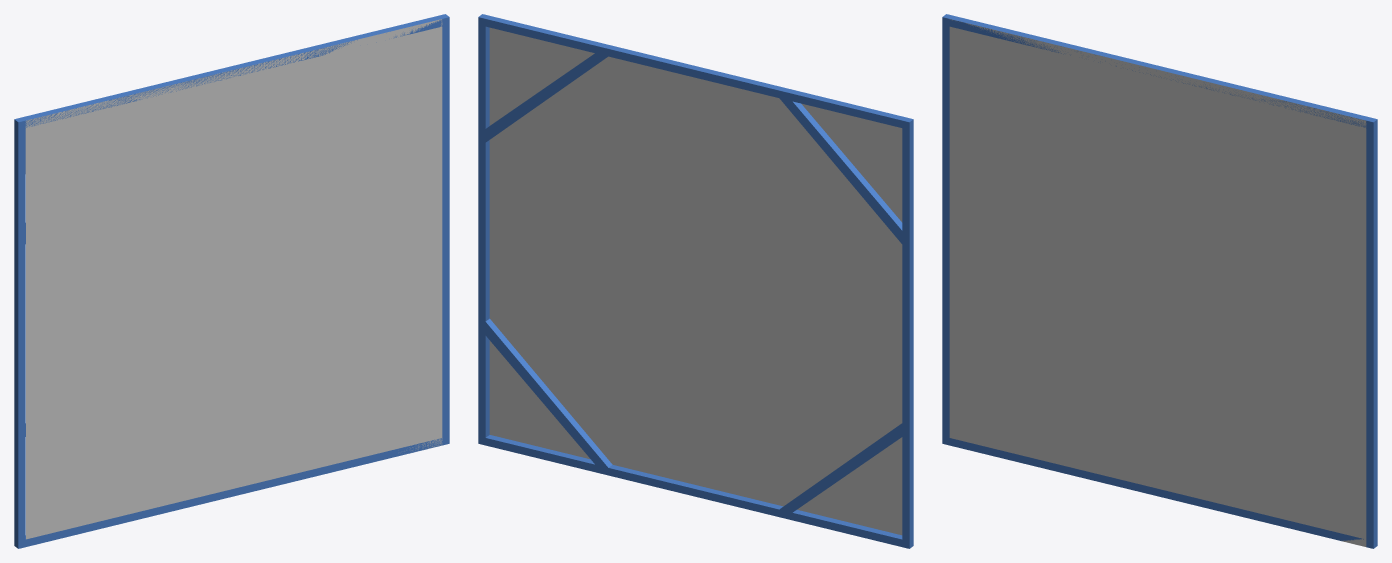
Rendered from RoomWall.fbx.
3 views of the same model, side by side, from view 1: azimuth 30°, elevation 25°; view 2: azimuth 150°, elevation 25°; view 3: azimuth 330°, elevation 25° (orthographic).
Visible parts, largest first — view 1: Cube.011; view 2: Cube.011; view 3: Cube.011.
Part boxes in pixels (x1,y1,x2,y2): Cube.011: [14, 14, 449, 548]; Cube.011: [478, 14, 913, 548]; Cube.011: [942, 14, 1377, 548].
Bounding box in the file's own units: 656 × 620 × 11.2.
